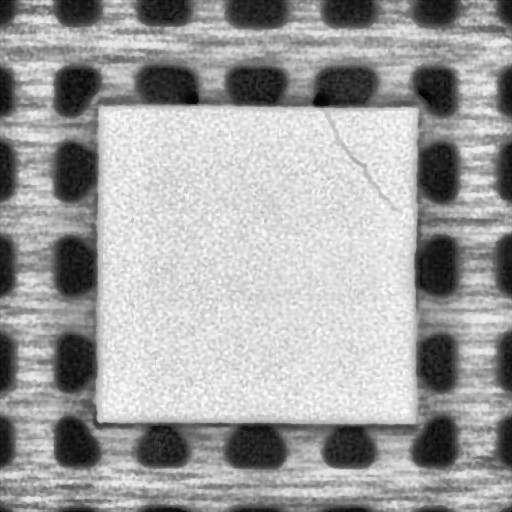DIE_CRACK: (322, 107, 397, 213)
